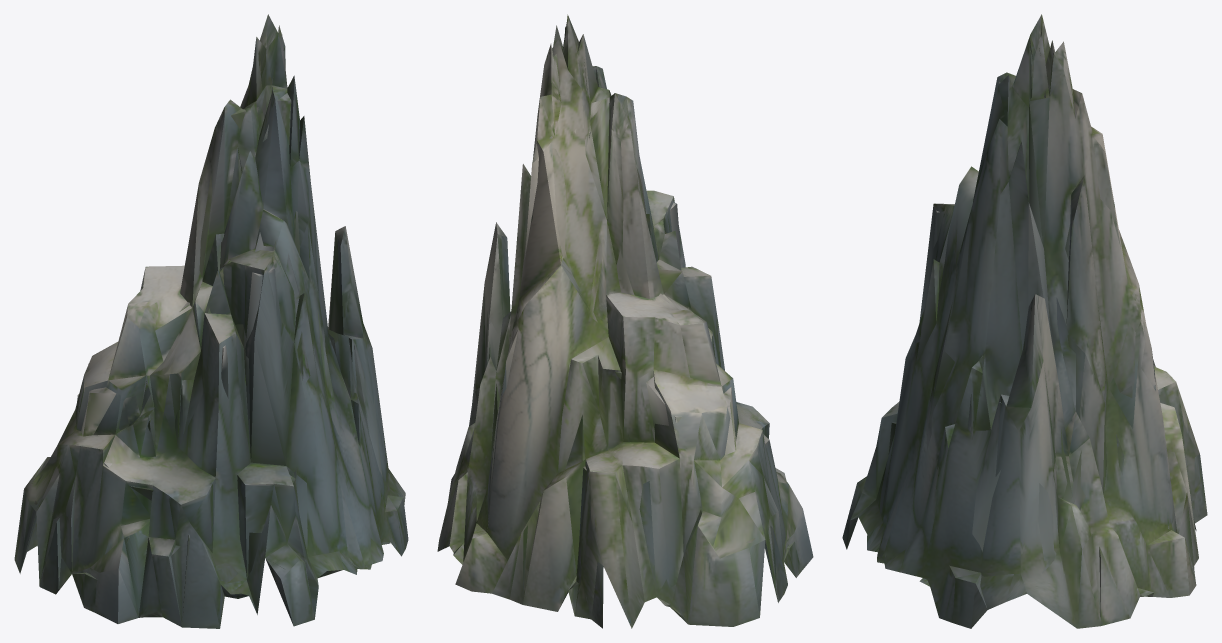
The model's file is GraniteSpire_LOD1.fbx.
The picture shows the model from 3 angles, left to right: view 1: azimuth 30°, elevation 25°; view 2: azimuth 150°, elevation 25°; view 3: azimuth 270°, elevation 25°; orthographic projection. The views are drawn at different scales.
Visible parts, largest first — view 1: GraniteSpire_LOD1; view 2: GraniteSpire_LOD1; view 3: GraniteSpire_LOD1.
Boxes of the visible parts, bbox=[...] form: GraniteSpire_LOD1: bbox=[14, 14, 408, 628]; GraniteSpire_LOD1: bbox=[437, 14, 813, 628]; GraniteSpire_LOD1: bbox=[842, 14, 1207, 628].
Size of the model in its own units: 28.32 by 42.03 by 24.82.
1 material, 1 textured.
